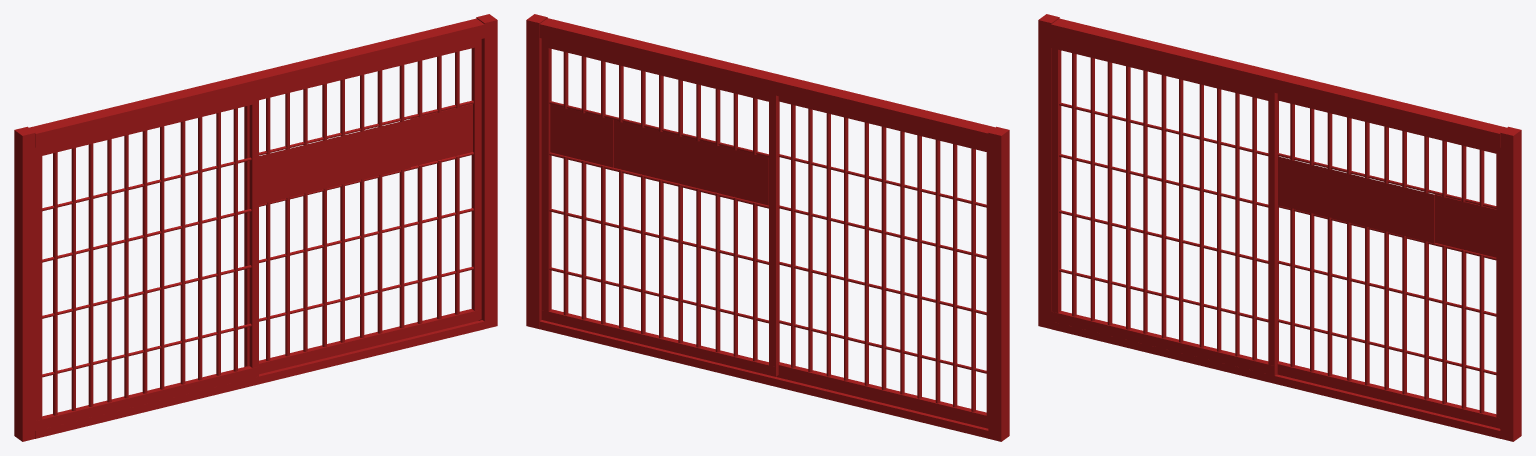
The model's file is JailDoorClosed.obj.
3 views of the same model, side by side, from view 1: azimuth 30°, elevation 25°; view 2: azimuth 150°, elevation 25°; view 3: azimuth 330°, elevation 25° (orthographic).
Parts seen in each view (by area): view 1: JailDoorClosed; view 2: JailDoorClosed; view 3: JailDoorClosed.
Boxes of the visible parts, bbox=[...] form: JailDoorClosed: bbox=[14, 14, 497, 441]; JailDoorClosed: bbox=[526, 14, 1009, 441]; JailDoorClosed: bbox=[1038, 14, 1521, 441].
Bounding box in the file's own units: 201 × 124 × 6.21.
